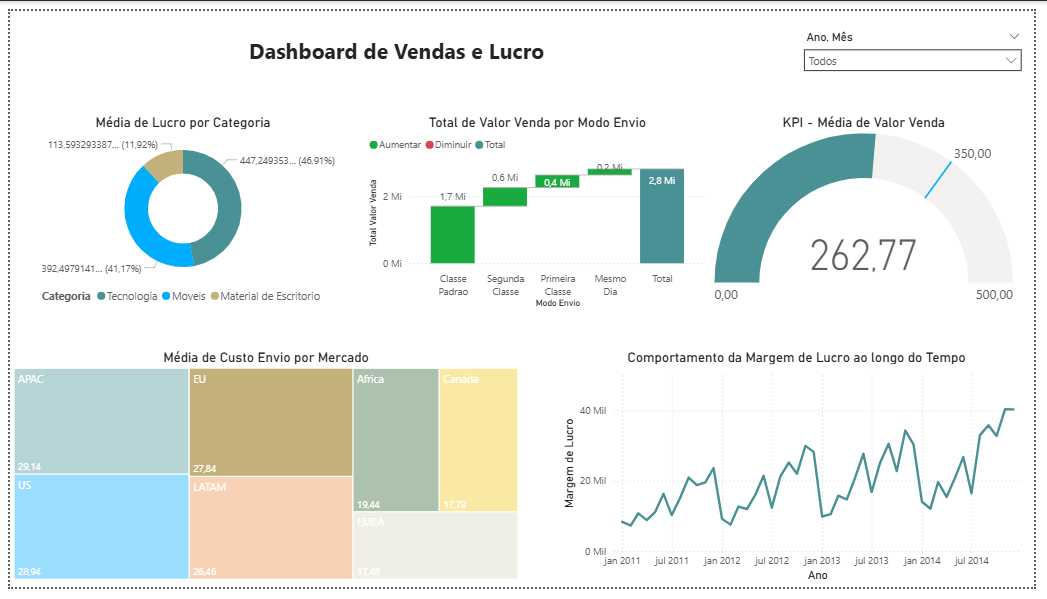

The dashboard page shown, as its layout file describes it:
{"tool":"powerbi","page":{"name":"Lab2","canvas":[1280,720],"ordinal":0},"visuals":[{"type":"waterfallChart","title":"Total de Valor Venda por Modo Envio","fields":{"Category":["Pedidos.Modo Envio"],"Y":["Sum(Vendas.Valor Venda)"]},"box":[443.6,128.9,431.3,246.6],"z":0},{"type":"treemap","fields":{"Group":["Clientes.Mercado"],"Values":["Avg(Vendas.Custo Envio)"]},"box":[0,423.1,640,292.9],"z":1000},{"type":"gauge","title":"KPI - Média de Valor Venda","fields":{"Y":["Avg(Vendas.Valor Venda)"]},"box":[874.9,128.9,384.2,246.6],"z":2000},{"type":"slicer","title":"F","fields":{"Values":["Pedidos.Data Pedido.Variation.Hierarquia de datas.Ano","Pedidos.Data Pedido.Variation.Hierarquia de datas.Mês"]},"box":[983.1,20.3,291.5,66.4],"z":3000},{"type":"donutChart","fields":{"Category":["Produtos.Categoria"],"Y":["Avg(Vendas.Lucro)"]},"box":[0,128.9,432.5,246.6],"z":4000},{"type":"lineChart","title":"Comportamento da Margem de Lucro ao longo do Tempo","fields":{"Category":["Pedidos.Data Pedido.Variation.Hierarquia de datas.Ano","Pedidos.Data Pedido.Variation.Hierarquia de datas.Trimestre","Pedidos.Data Pedido.Variation.Hierarquia de datas.Mês","Pedidos.Data Pedido.Variation.Hierarquia de datas.Dia"],"Y":["Sum(Vendas.MargemLucro)"]},"box":[686.1,423.1,593.9,295.6],"z":5000},{"type":"textbox","box":[0,9.1,966.6,89.8],"z":6000}]}

Visuals, with their boxes in screenshot pixels (x1, y1, x2, y2), scaled from the page's 1280x720 canvas onto the 1047x599 screenshot:
"Total de Valor Venda por Modo Envio" waterfallChart: [left=363, top=107, right=716, bottom=312]
treemap - Clientes.Mercado x Avg(Vendas.Custo Envio): [left=0, top=352, right=524, bottom=596]
"KPI - Média de Valor Venda" gauge: [left=716, top=107, right=1030, bottom=312]
"F" slicer: [left=804, top=17, right=1043, bottom=72]
donutChart - Produtos.Categoria x Avg(Vendas.Lucro): [left=0, top=107, right=354, bottom=312]
"Comportamento da Margem de Lucro ao longo do Tempo" lineChart: [left=561, top=352, right=1046, bottom=598]
textbox: [left=0, top=8, right=791, bottom=82]
